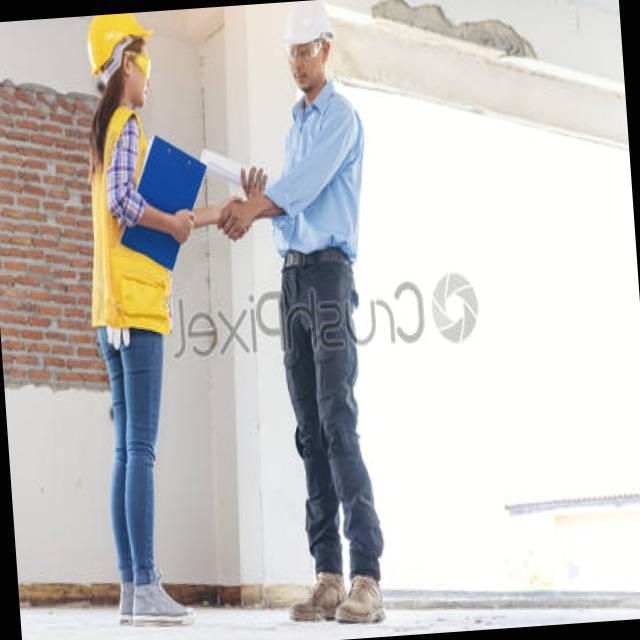goggles: (279, 39, 329, 64), (123, 44, 153, 80)
helmet: (85, 12, 158, 92), (277, 0, 336, 48)
no-vest: (76, 109, 174, 338), (264, 92, 371, 254)
